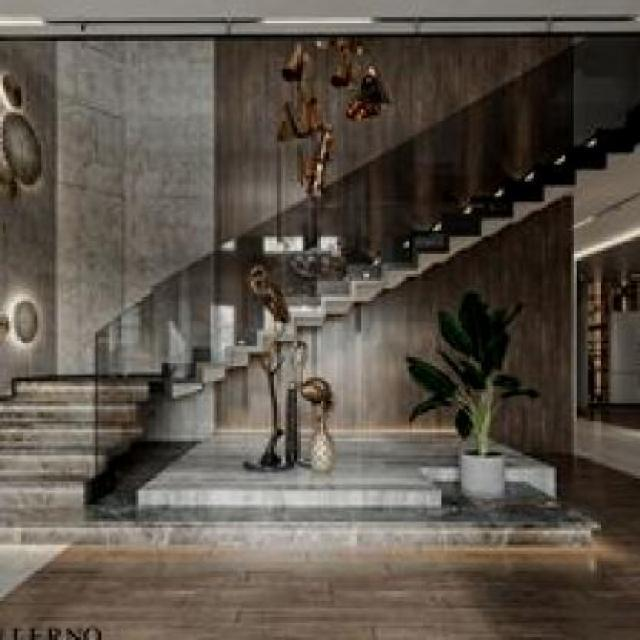stair: (0, 311, 155, 545)
